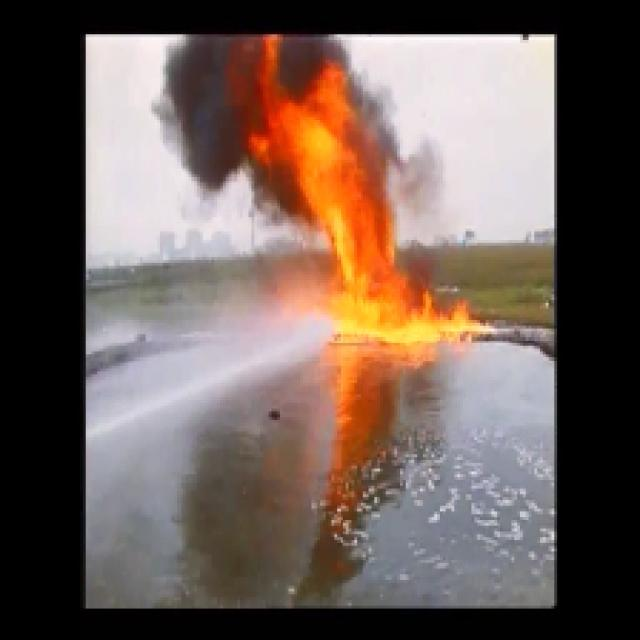fire: (256, 97, 354, 215), (336, 224, 395, 333)
smoke: (177, 45, 248, 171)
